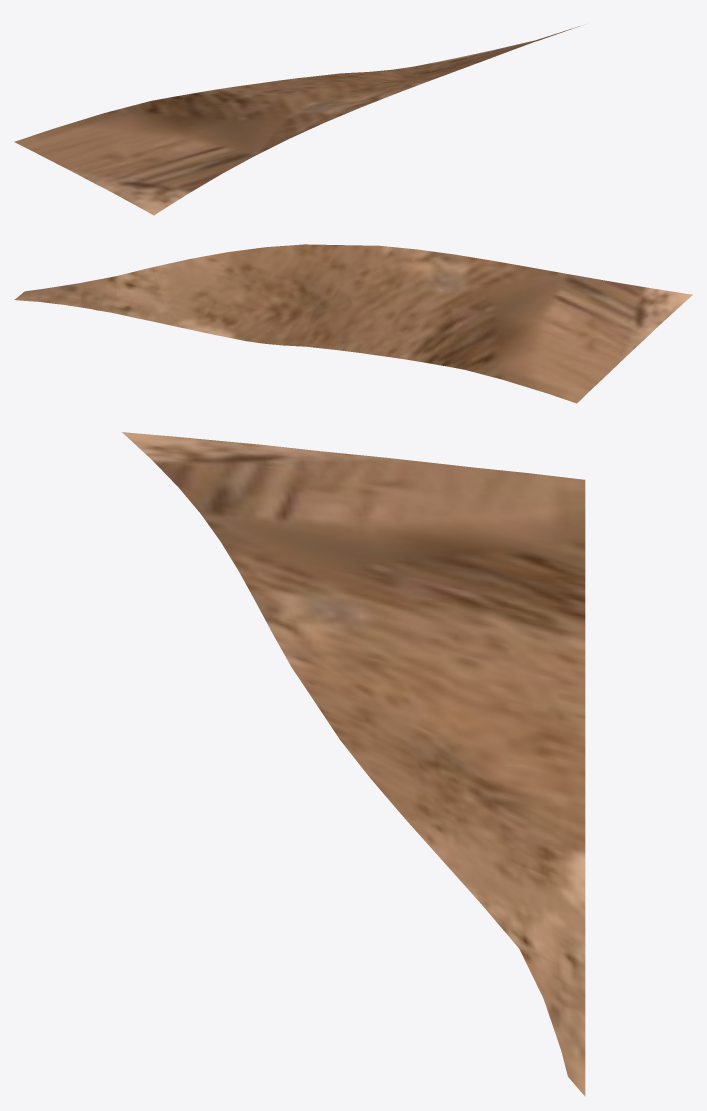
3 renders of one model, top to bottom at view 1: azimuth 30°, elevation 25°; view 2: azimuth 150°, elevation 25°; view 3: azimuth 270°, elevation 25°, orthographic. The views are drawn at different scales.
Size of the model in its own units: 6.47 by 0.7978 by 2.31.
Materials: 1 (1 with a texture image).
